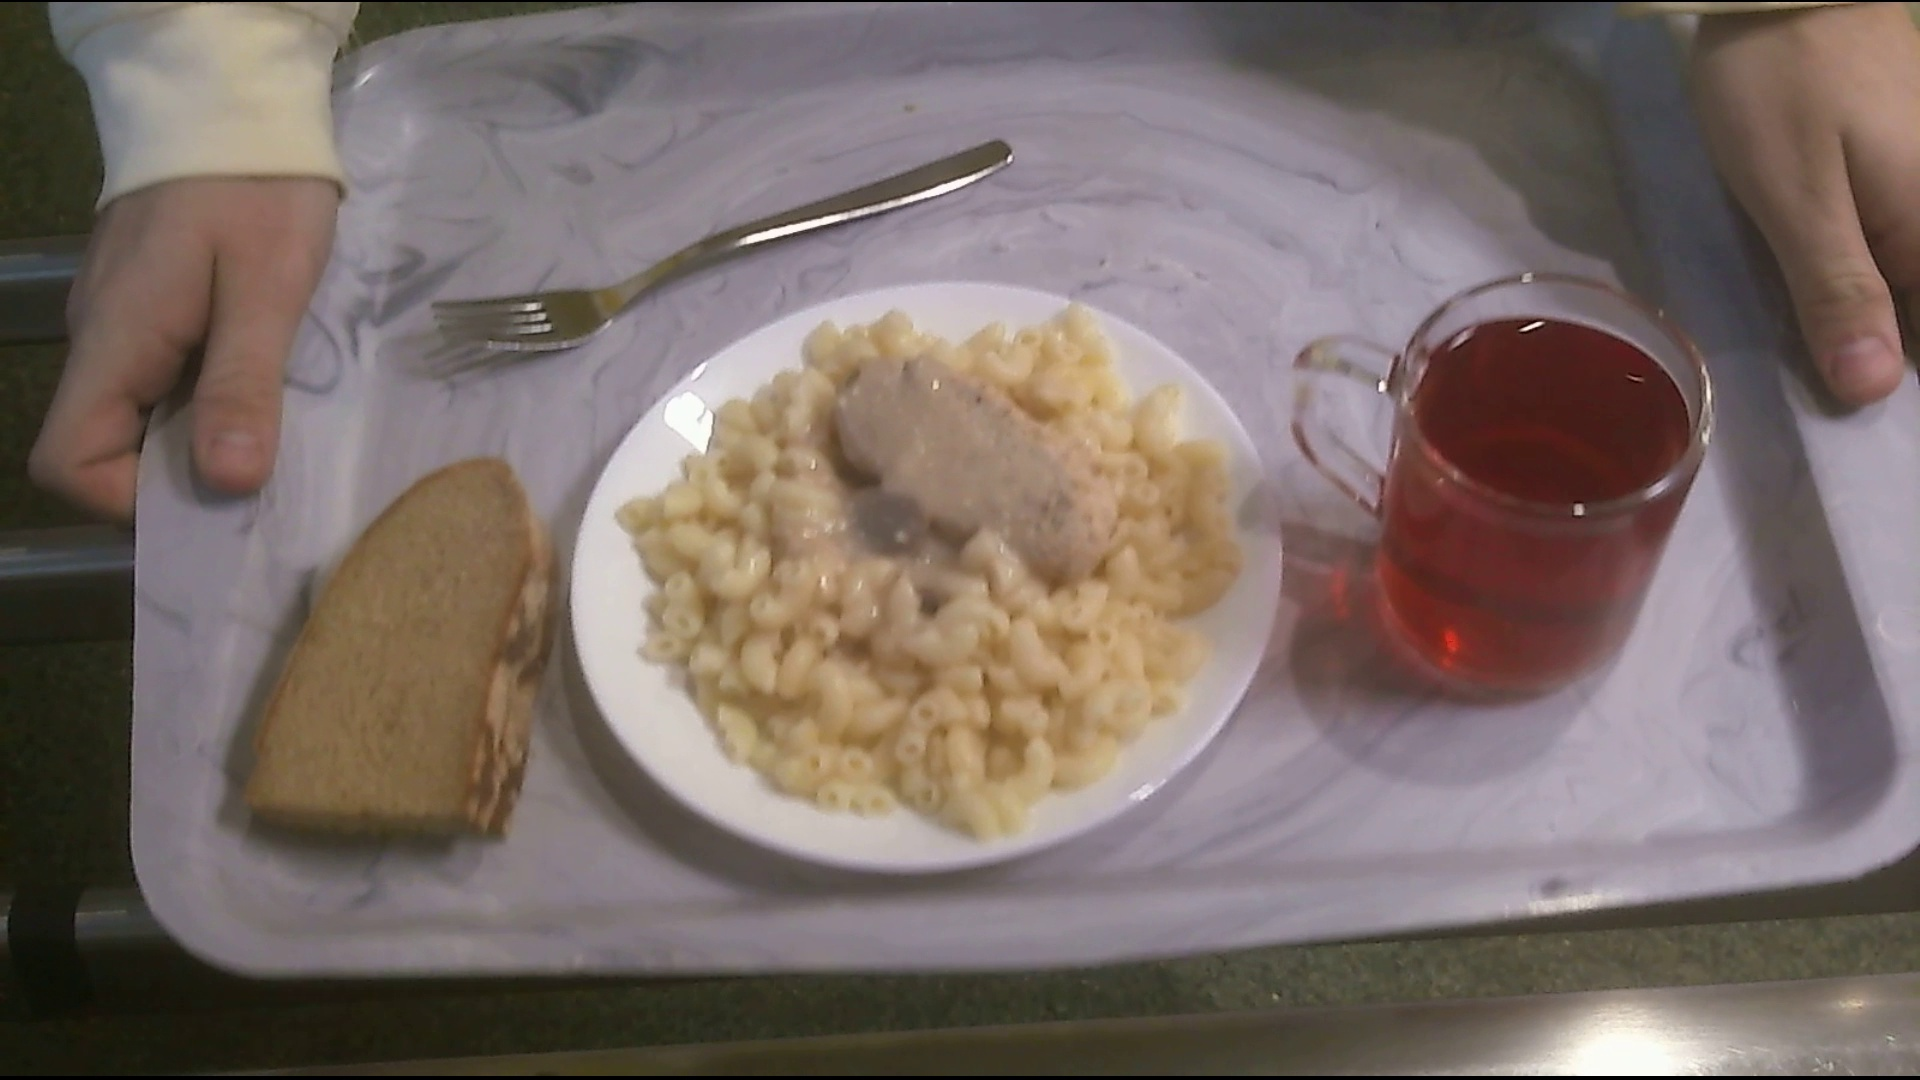cutlery: (425, 137, 1029, 351)
drink: (1298, 272, 1709, 692)
other: (244, 440, 549, 865)
plate: (580, 299, 1298, 876)
